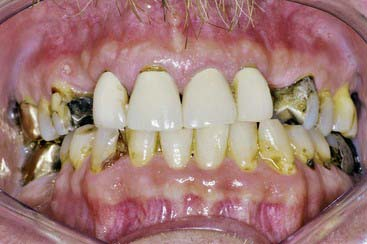karies: (272, 74, 318, 119), (49, 85, 92, 129), (329, 133, 362, 173), (3, 95, 28, 134), (104, 132, 130, 168), (137, 63, 172, 79), (46, 153, 68, 176), (226, 80, 241, 106), (238, 61, 262, 73), (321, 155, 334, 170), (306, 156, 318, 171)
